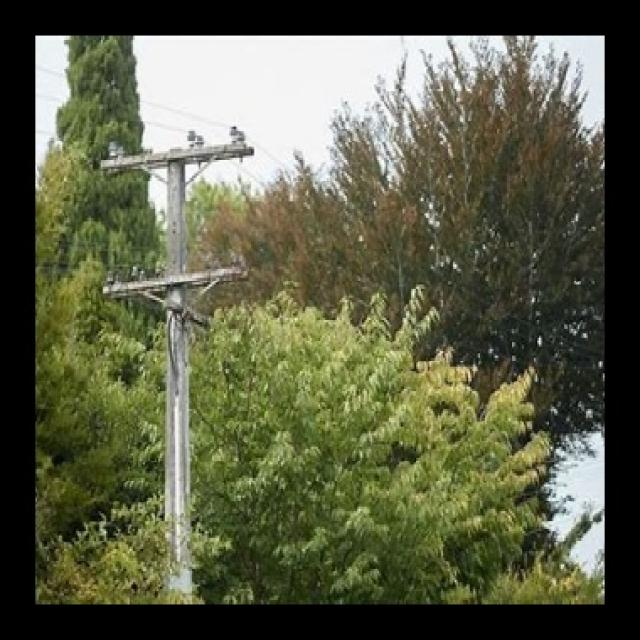utility poles: (100, 94, 246, 606)
